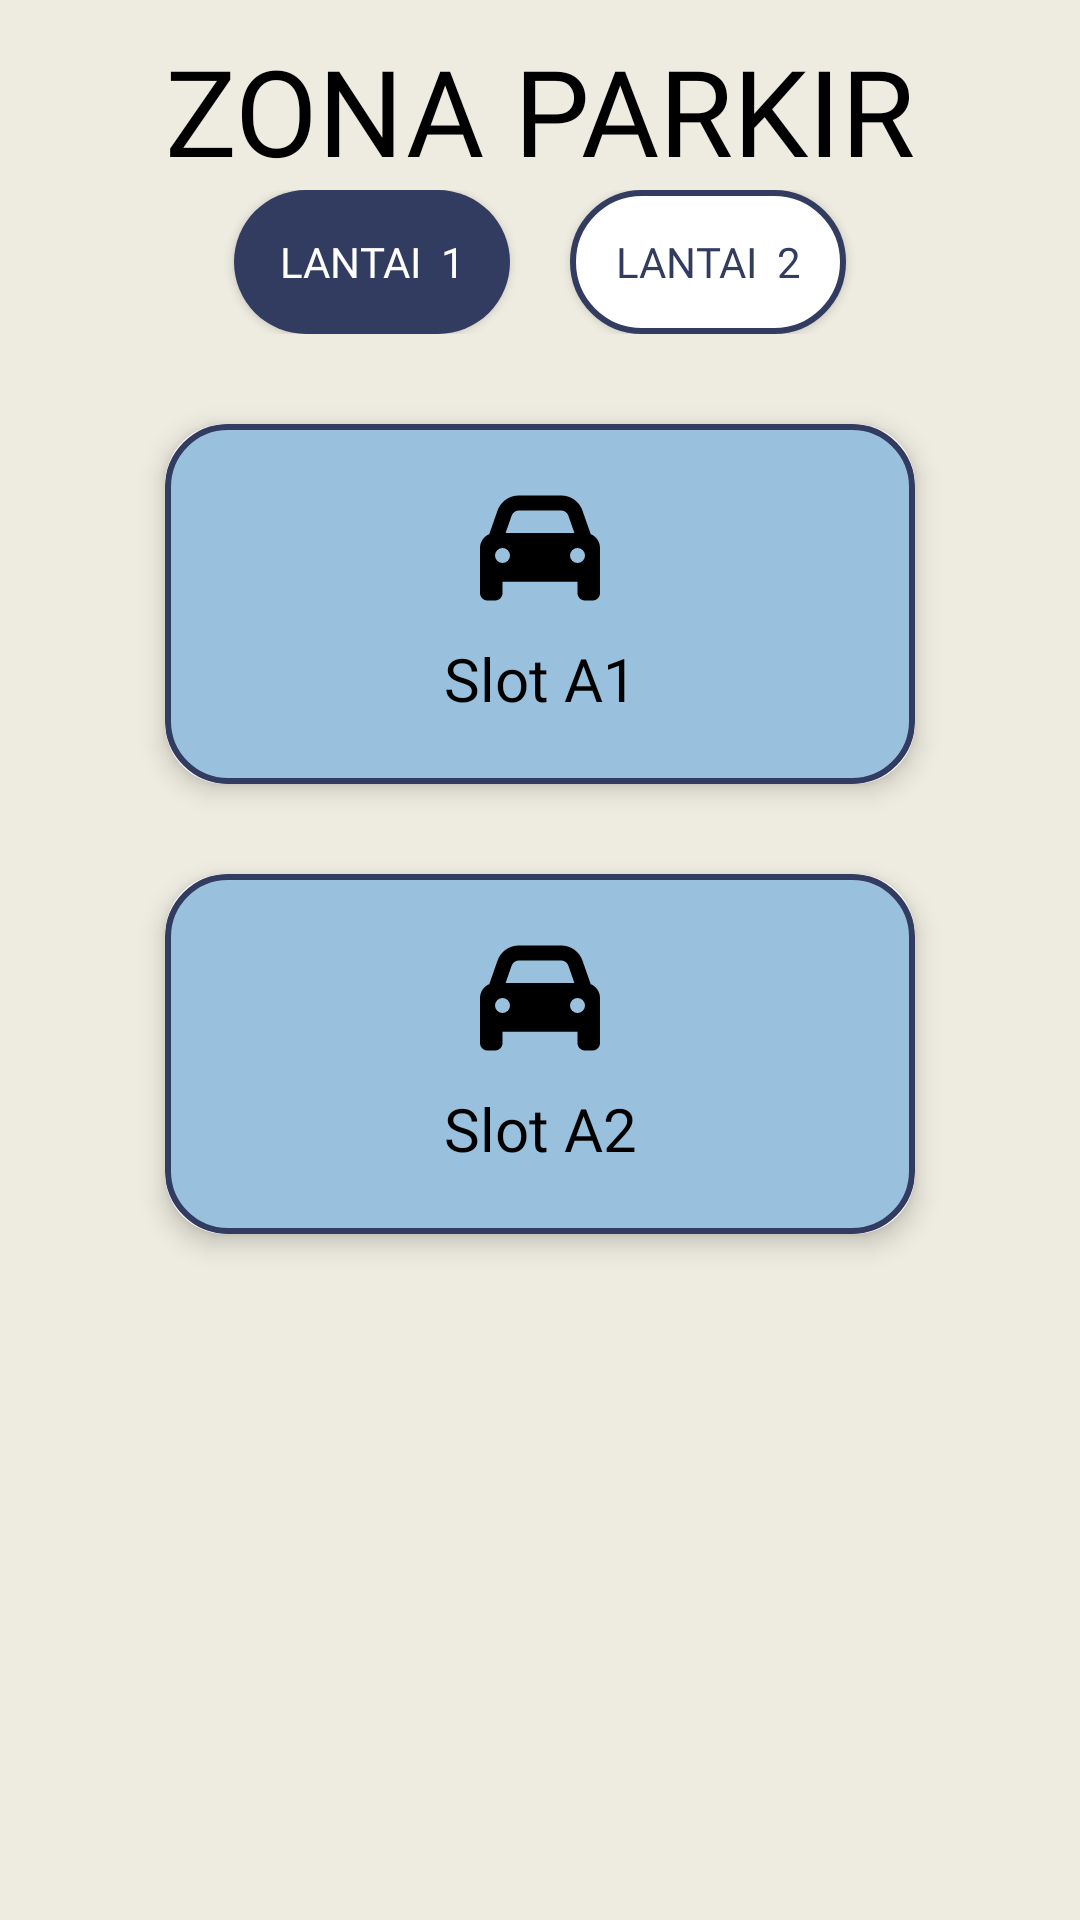

Locate icon controls on the screen. Image size 1080*1920, boxes as (left=x1, top=y1, right=x2, bottom=y2).
car: (left=480, top=495, right=600, bottom=601), (left=480, top=945, right=600, bottom=1051)
